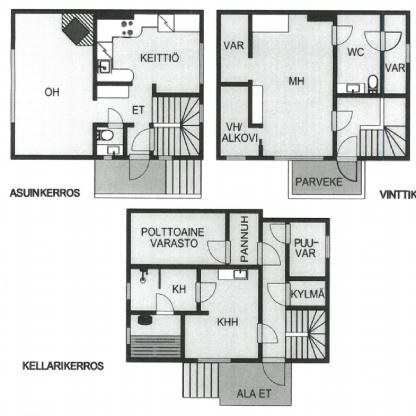door: (360, 29, 403, 54), (339, 135, 361, 182), (131, 128, 164, 156), (262, 354, 288, 389), (254, 241, 283, 269), (252, 323, 282, 348), (206, 238, 231, 263), (128, 156, 152, 181), (266, 282, 290, 307), (194, 281, 218, 305), (331, 23, 355, 46), (269, 224, 295, 245), (331, 110, 354, 132), (104, 107, 122, 132)
window: (10, 47, 17, 125), (275, 154, 325, 162), (199, 44, 205, 84), (200, 356, 230, 364), (124, 326, 131, 348), (227, 154, 246, 162), (324, 235, 330, 258), (406, 44, 410, 64), (126, 284, 131, 298), (199, 104, 203, 120), (104, 155, 113, 160), (160, 156, 170, 160)
zone: (15, 13, 197, 155), (220, 14, 334, 156), (181, 271, 257, 357), (130, 214, 228, 262), (337, 96, 404, 156), (96, 158, 202, 194), (338, 15, 380, 92), (263, 221, 285, 356), (131, 268, 197, 312), (218, 364, 291, 402), (292, 161, 362, 194), (131, 314, 182, 356), (383, 15, 406, 96), (291, 222, 324, 278), (285, 312, 324, 356), (230, 214, 258, 263), (290, 284, 326, 304)
